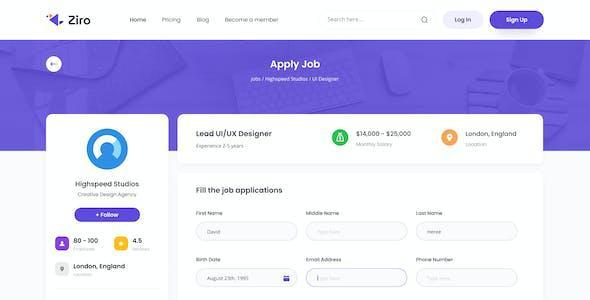button: (490, 11, 545, 30), (75, 208, 140, 223), (443, 11, 485, 30)
icon: (442, 130, 460, 148), (333, 130, 349, 147), (56, 237, 70, 252), (56, 263, 70, 278), (116, 238, 129, 252), (421, 16, 431, 27)
input: (307, 221, 409, 243), (197, 222, 299, 243), (416, 268, 519, 288), (416, 222, 518, 242), (307, 269, 409, 288), (197, 269, 298, 287)
label: (196, 187, 284, 196), (415, 257, 456, 264), (306, 257, 344, 264), (416, 210, 445, 217), (307, 211, 340, 217), (197, 211, 224, 217), (195, 258, 223, 262)
